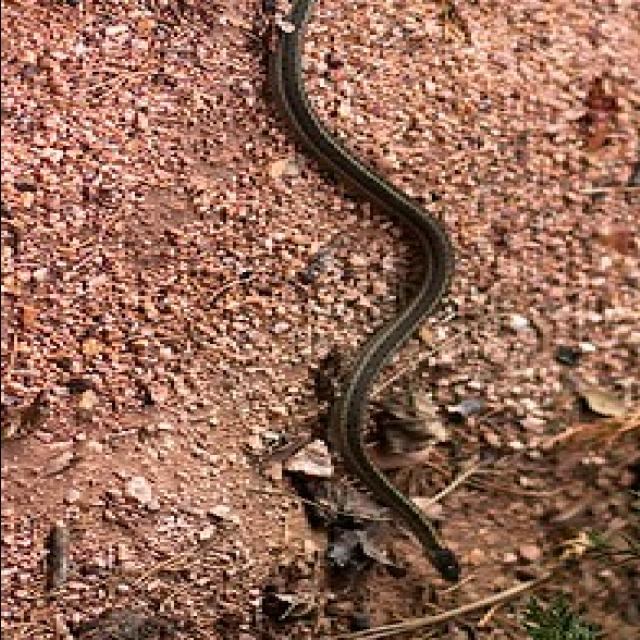snake: (229, 0, 471, 583)
